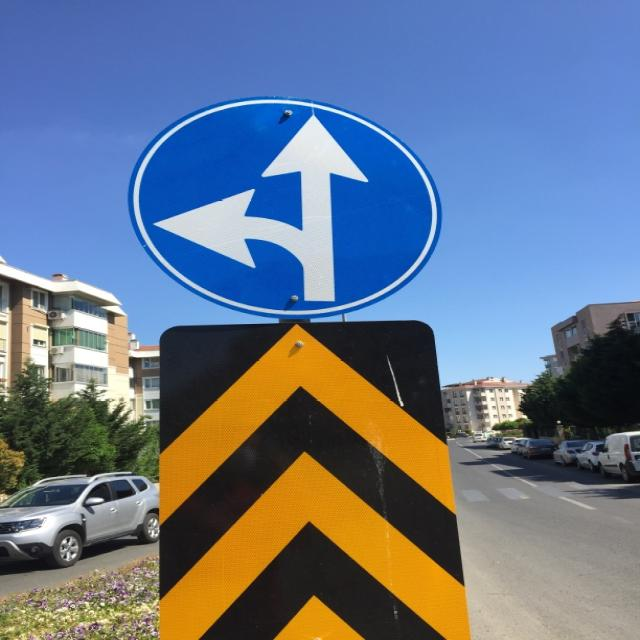ilerisol: (128, 96, 444, 319)
